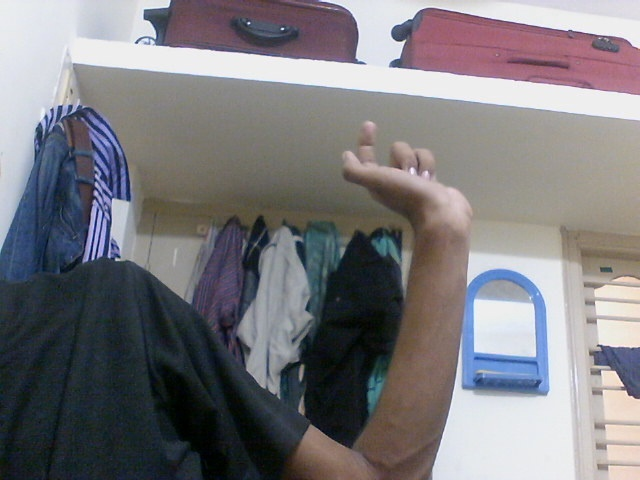hand: (337, 117, 479, 232)
